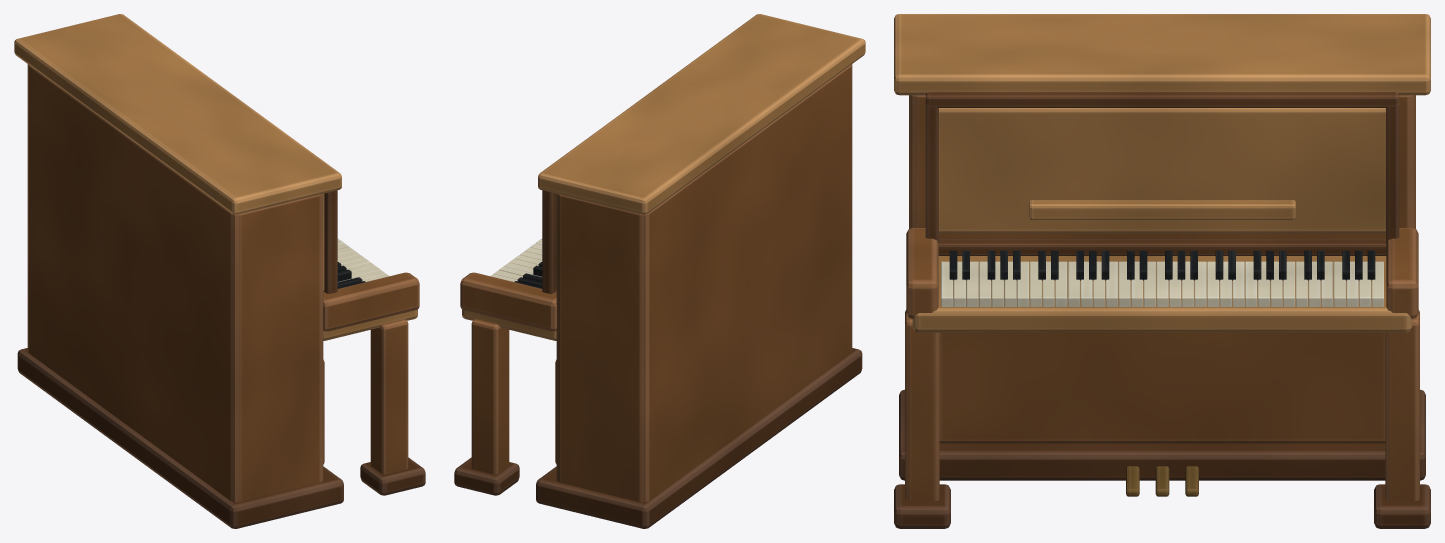
Rendered from 05_Upright_Piano.fbx.
The picture shows the model from 3 angles, left to right: view 1: azimuth 30°, elevation 25°; view 2: azimuth 150°, elevation 25°; view 3: azimuth 270°, elevation 25°; orthographic projection. The views are drawn at different scales.
Parts seen in each view (by area): view 1: 05_Upright_Piano; view 2: 05_Upright_Piano; view 3: 05_Upright_Piano.
Boxes of the visible parts, x1,y1,x2,y2 form: 05_Upright_Piano: [14, 14, 425, 528]; 05_Upright_Piano: [454, 14, 865, 528]; 05_Upright_Piano: [894, 14, 1430, 528].
Size of the model in its own units: 110 by 181 by 217.
1 material, 1 textured.
